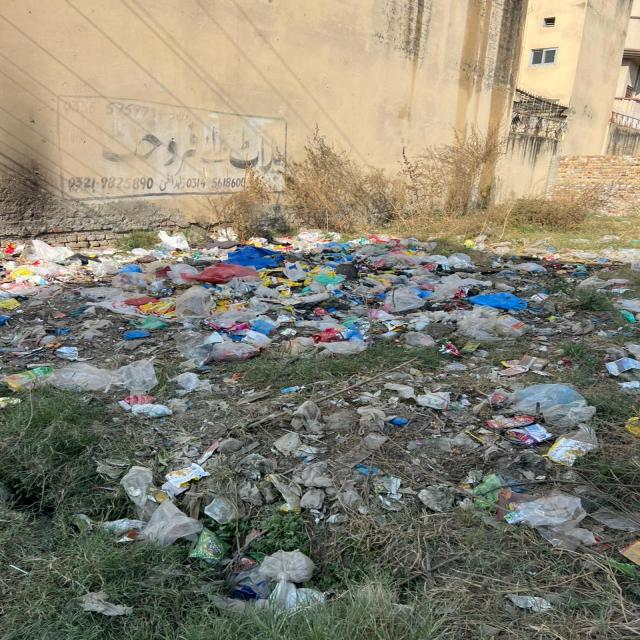garbage: (6, 236, 640, 533)
